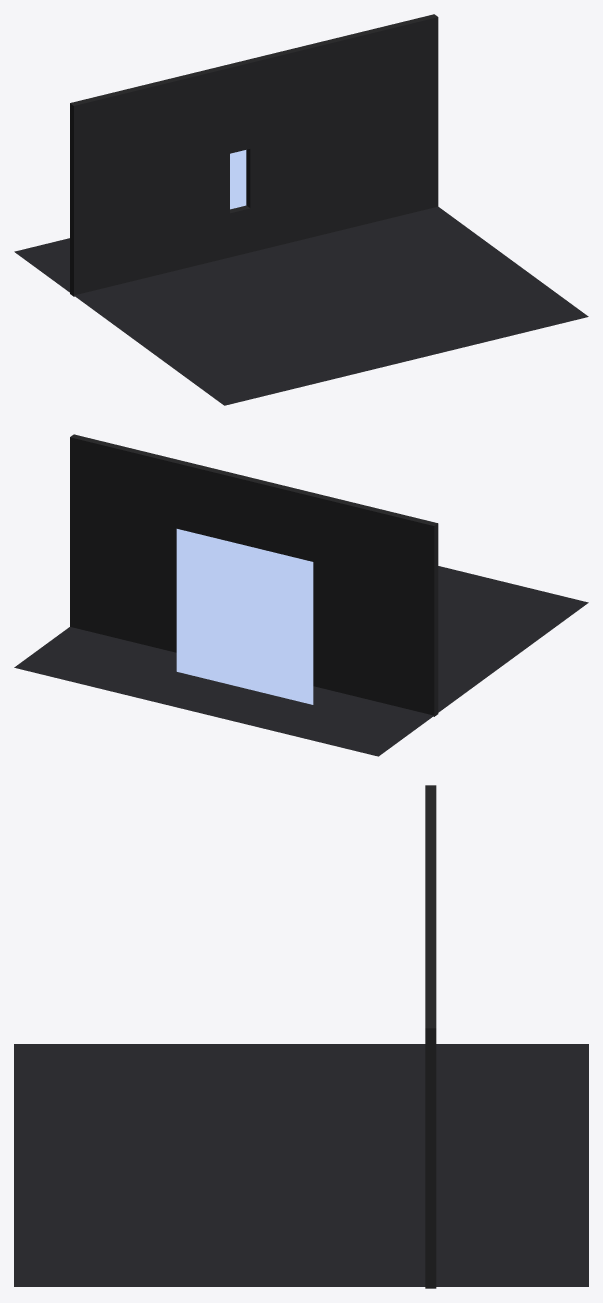
The model's file is room.glb.
3 views of the same model, one above another, from view 1: azimuth 30°, elevation 25°; view 2: azimuth 150°, elevation 25°; view 3: azimuth 270°, elevation 25° (orthographic). The views are drawn at different scales.
Parts seen in each view (by area): view 1: room_floor, room_wall_1, room_wall_0, room_wall_3, room_wall_2, room_sky; view 2: room_floor, room_wall_0, room_wall_1, room_sky, room_wall_3; view 3: room_floor, room_wall_1, room_wall_0.
Boxes of the visible parts, x1,y1,x2,y2 form: room_floor: (14, 206, 588, 405); room_wall_1: (246, 14, 438, 252); room_wall_0: (70, 65, 229, 296); room_wall_3: (226, 60, 250, 153); room_wall_2: (230, 205, 250, 257); room_sky: (230, 150, 246, 209); room_floor: (14, 566, 588, 756); room_wall_0: (278, 485, 438, 716); room_wall_1: (70, 434, 261, 652); room_sky: (176, 529, 313, 704); room_wall_3: (258, 480, 281, 553); room_floor: (14, 1044, 588, 1286); room_wall_1: (425, 903, 436, 1288); room_wall_0: (425, 785, 436, 889).
Bounding box in the file's own units: 16 × 8 × 16.
